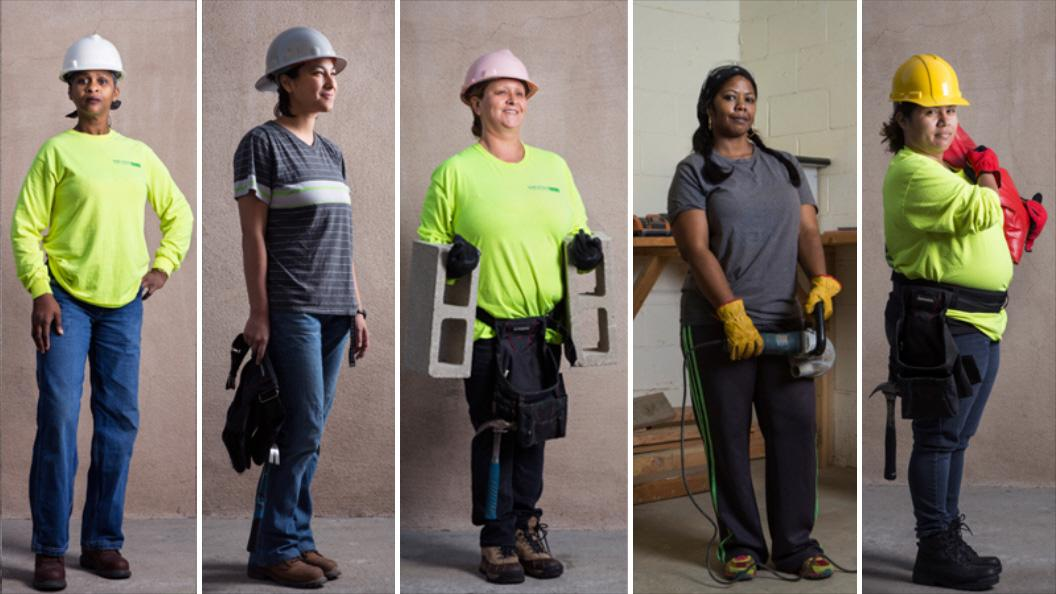helmet: (253, 26, 354, 94), (456, 48, 538, 100), (59, 37, 126, 82)
